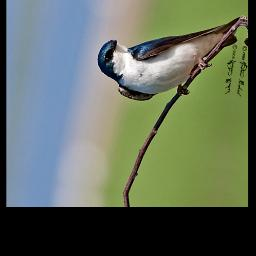Swallow: (91, 0, 243, 115)
